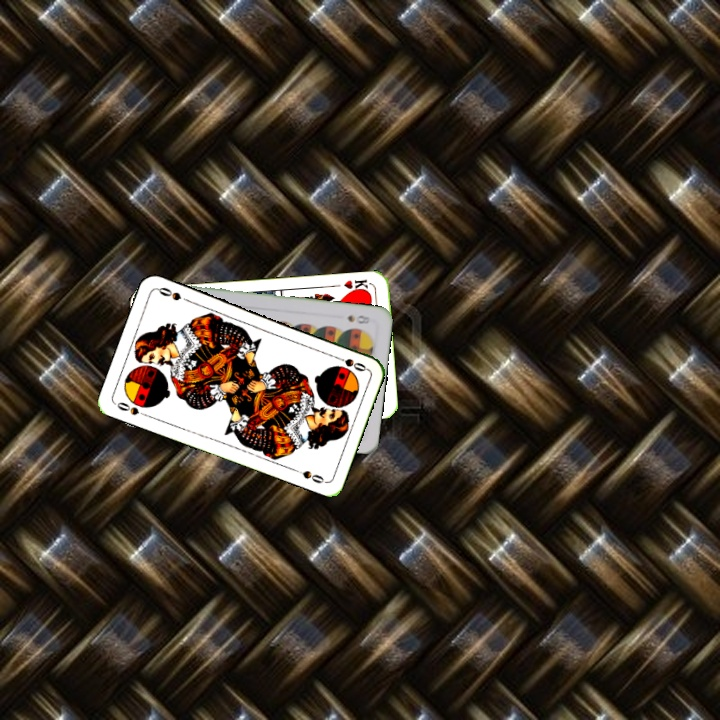HK: (340, 276, 371, 295)
S8: (344, 311, 373, 327)
SO: (330, 352, 369, 374), (112, 398, 151, 419)
